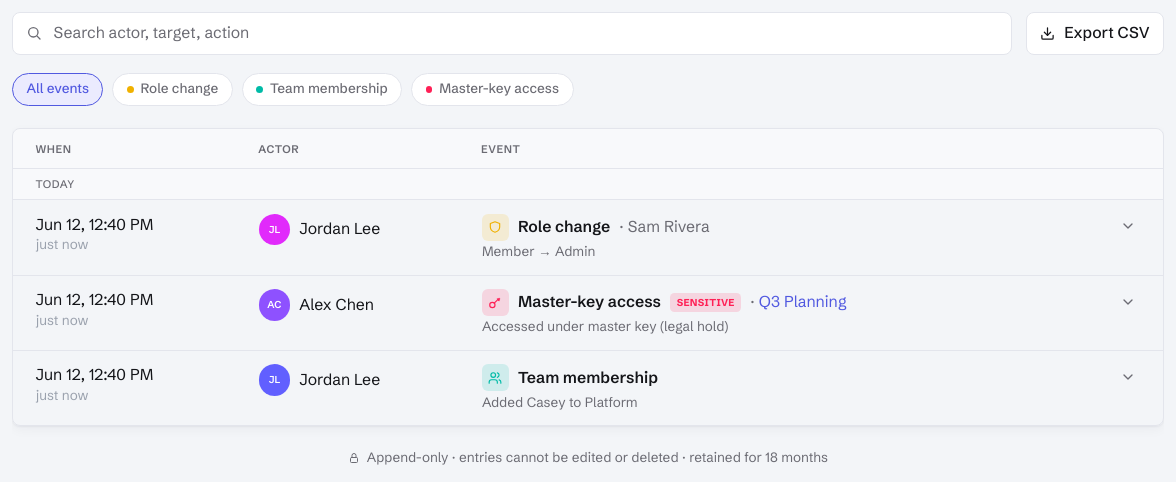
AuditLogClient › shows a filtered-empty state when search matches nothing
Type "zzzznope" into the search field named "search audit log" at (512, 33), box [12, 12, 1012, 54]
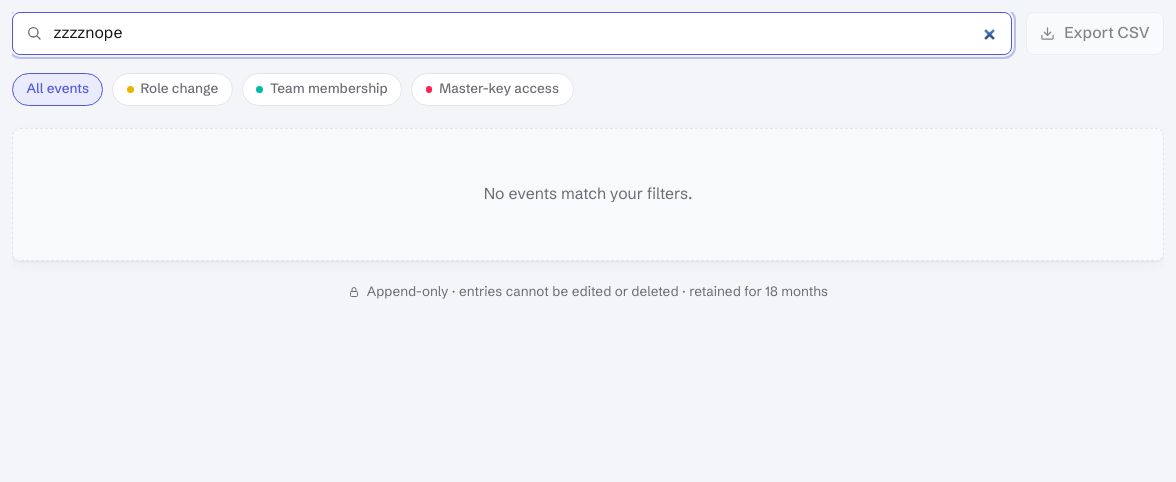
Expected: the text "No events match your filters." is shown, [12, 128, 1164, 261]
